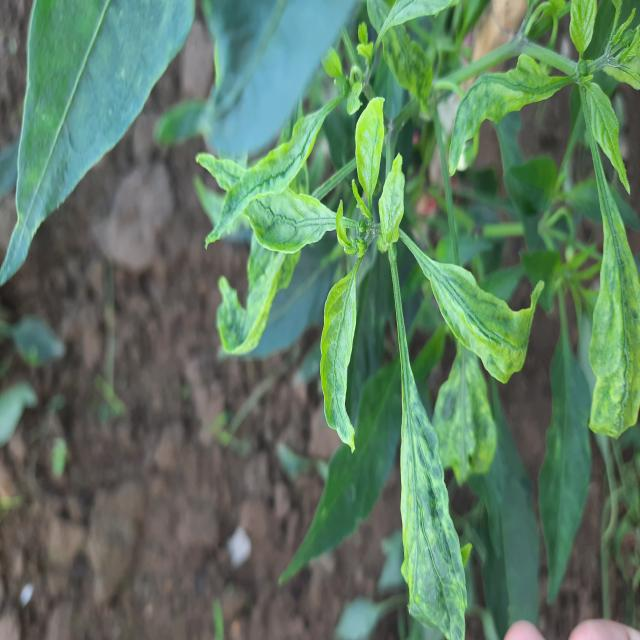thrips: (197, 91, 333, 242), (316, 273, 378, 457), (244, 186, 339, 255)
